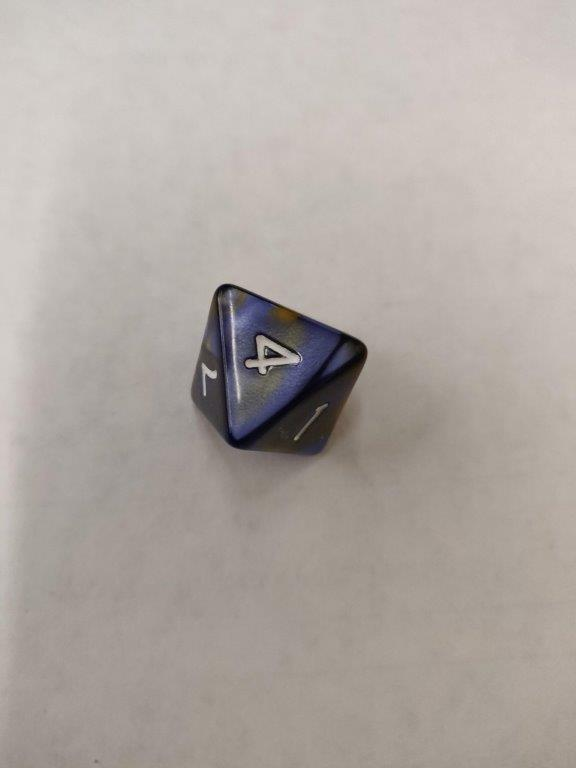d8-4: (188, 283, 372, 457)
